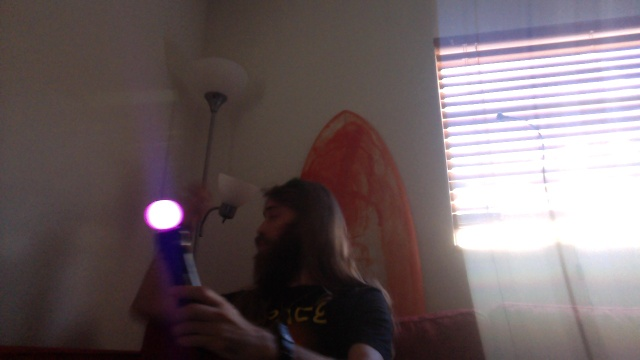wand: (145, 201, 183, 232)
